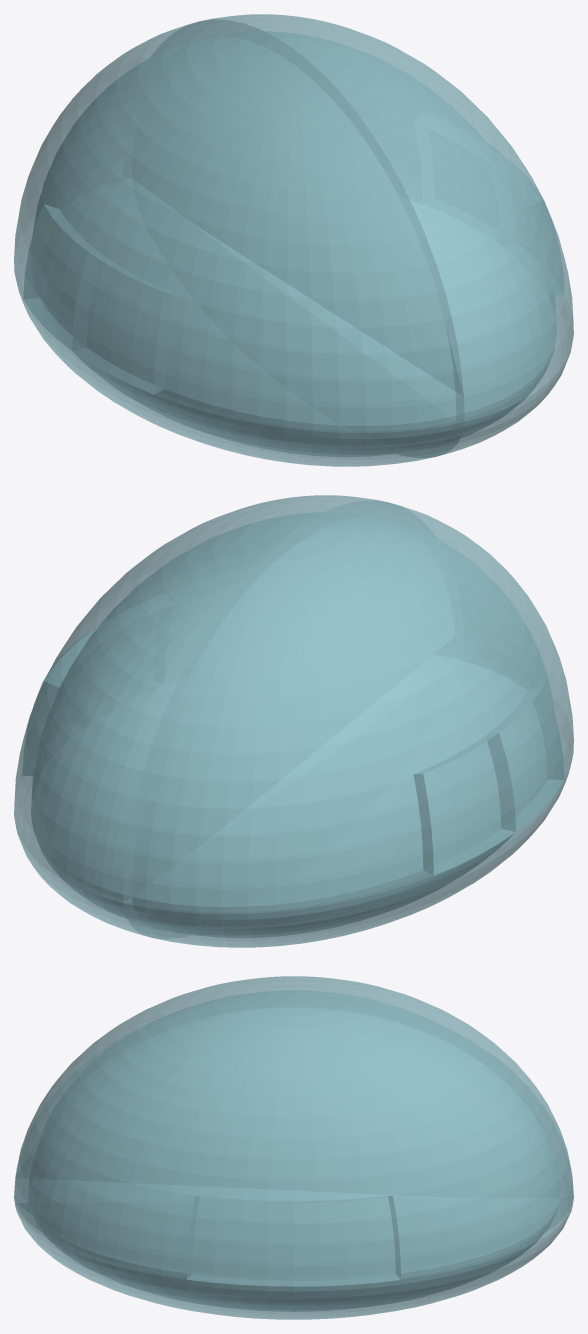
Rendered from Animation-AscenseurElipsoidaleMateriaux.fbx.
3 renders of one model, top to bottom at view 1: azimuth 30°, elevation 25°; view 2: azimuth 150°, elevation 25°; view 3: azimuth 270°, elevation 25°, orthographic. The views are drawn at different scales.
Parts seen in each view (by area): view 1: Ascenseur, Sol, PorteArriereGauche., PorteArriereDroite., PorteAvantDroite, PorteAvantGauche; view 2: Ascenseur, Sol, PorteArriereDroite., PorteArriereGauche., PorteAvantGauche, PorteAvantDroite; view 3: Ascenseur, Sol, PorteAvantDroite, PorteAvantGauche.
Boxes of the visible parts, x1,y1,x2,y2 form: Ascenseur: (14, 14, 573, 466); Sol: (41, 179, 556, 456); PorteArriereGauche.: (72, 252, 173, 394); PorteArriereDroite.: (23, 204, 100, 350); PorteAvantDroite: (415, 124, 500, 244); PorteAvantGauche: (487, 153, 563, 294); Ascenseur: (14, 495, 573, 947); Sol: (31, 655, 546, 937); PorteArriereDroite.: (414, 733, 515, 875); PorteArriereGauche.: (487, 685, 564, 831); PorteAvantGauche: (86, 605, 173, 726); PorteAvantDroite: (23, 633, 97, 775); Ascenseur: (14, 976, 573, 1319); Sol: (28, 1179, 557, 1311); PorteAvantDroite: (294, 1196, 400, 1286); PorteAvantGauche: (187, 1196, 293, 1286).
Size of the model in its own units: 150 by 114 by 200.
